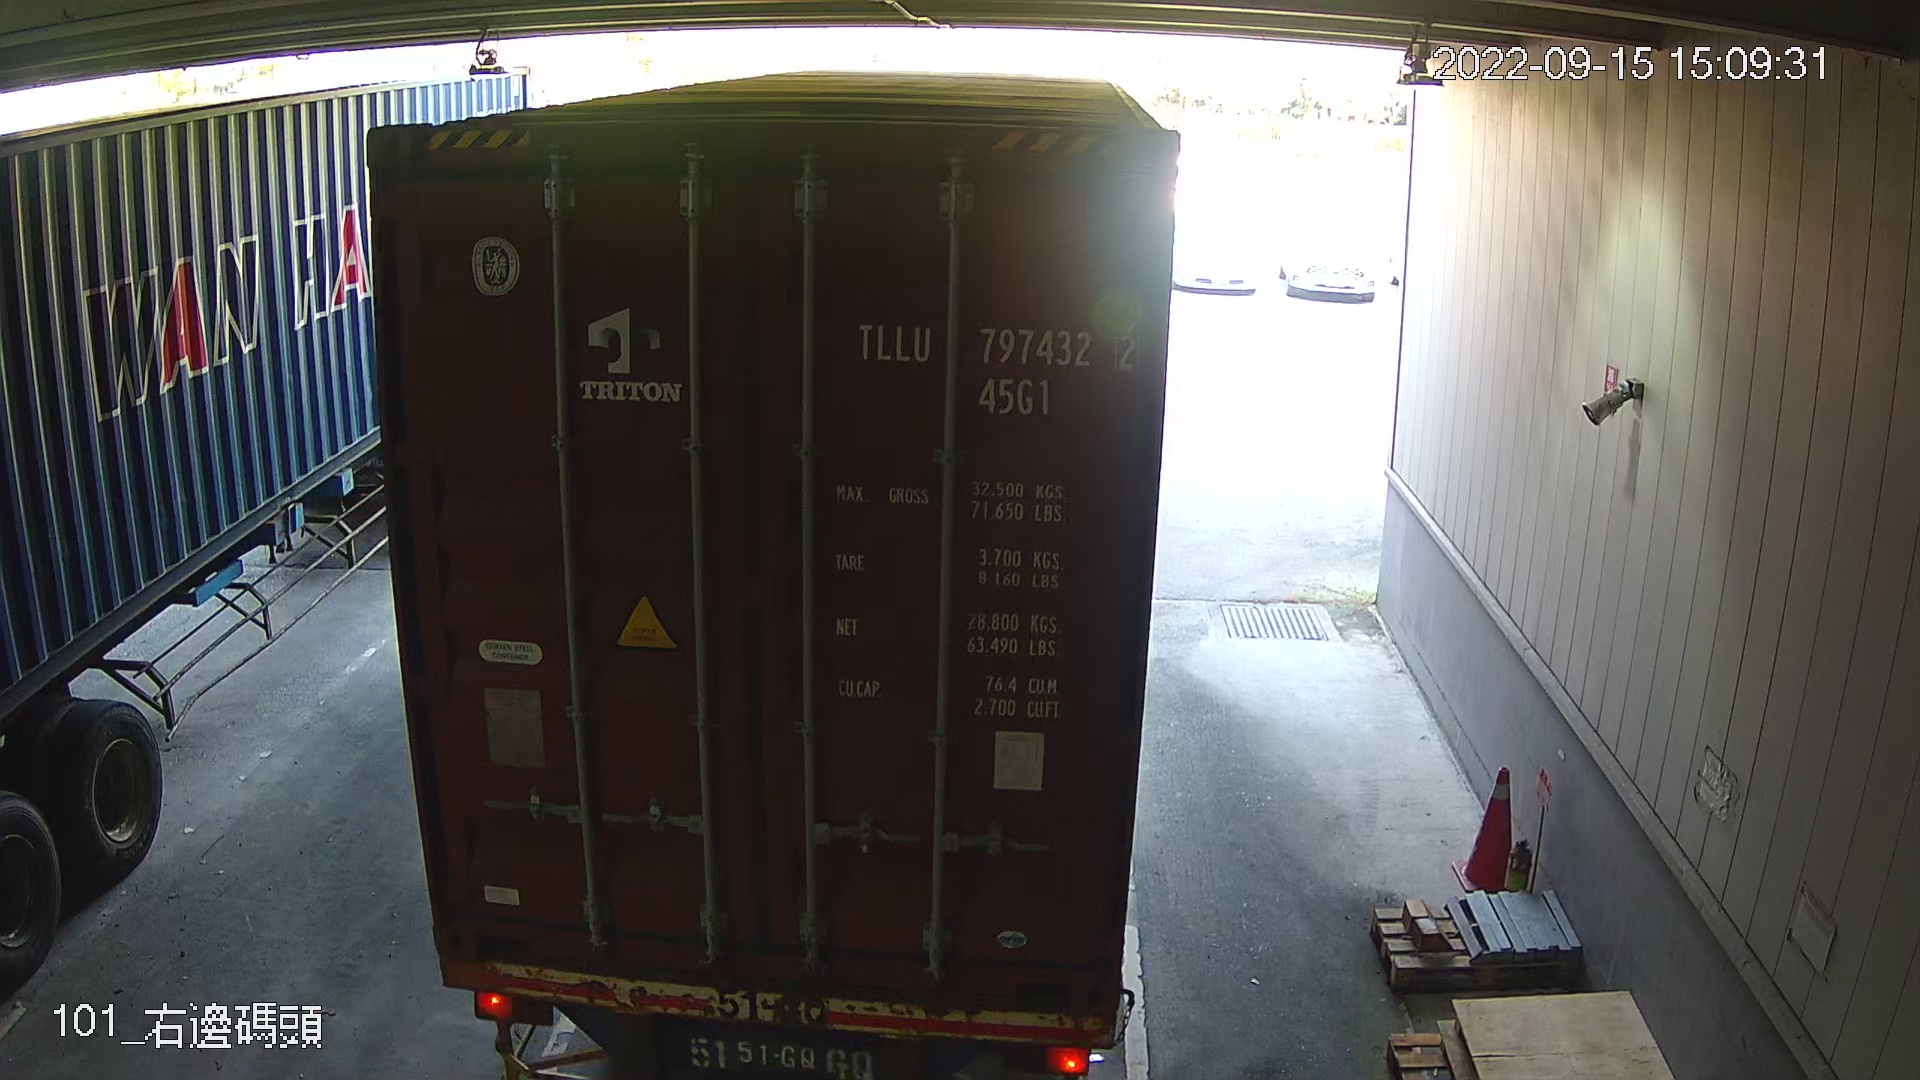container: (841, 301, 1149, 430)
